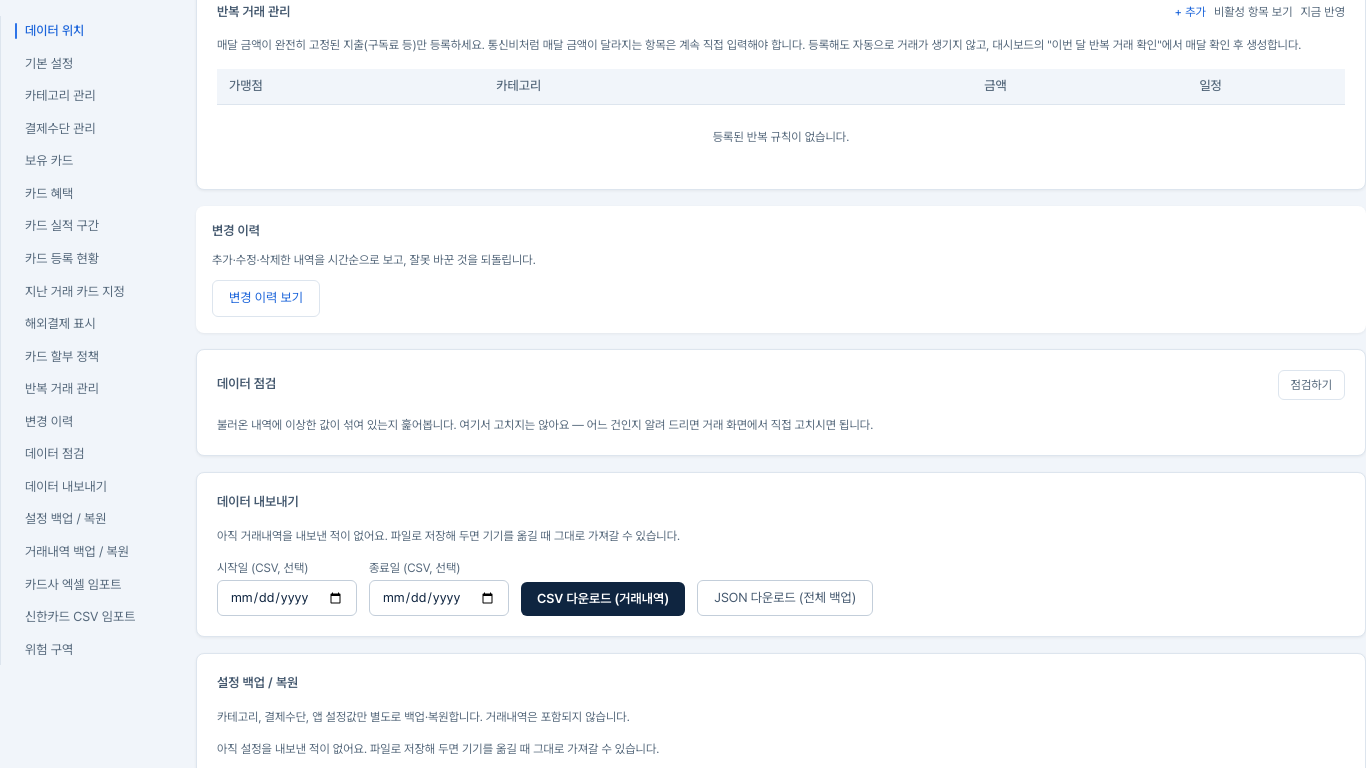
Scenario: 데이터 점검 절 › 깨끗하면 몇 가지를 봤는지 말해 준다
(page scrolled)
Click the button "점검하기": point(1311, 385) [1278,370,1345,400]
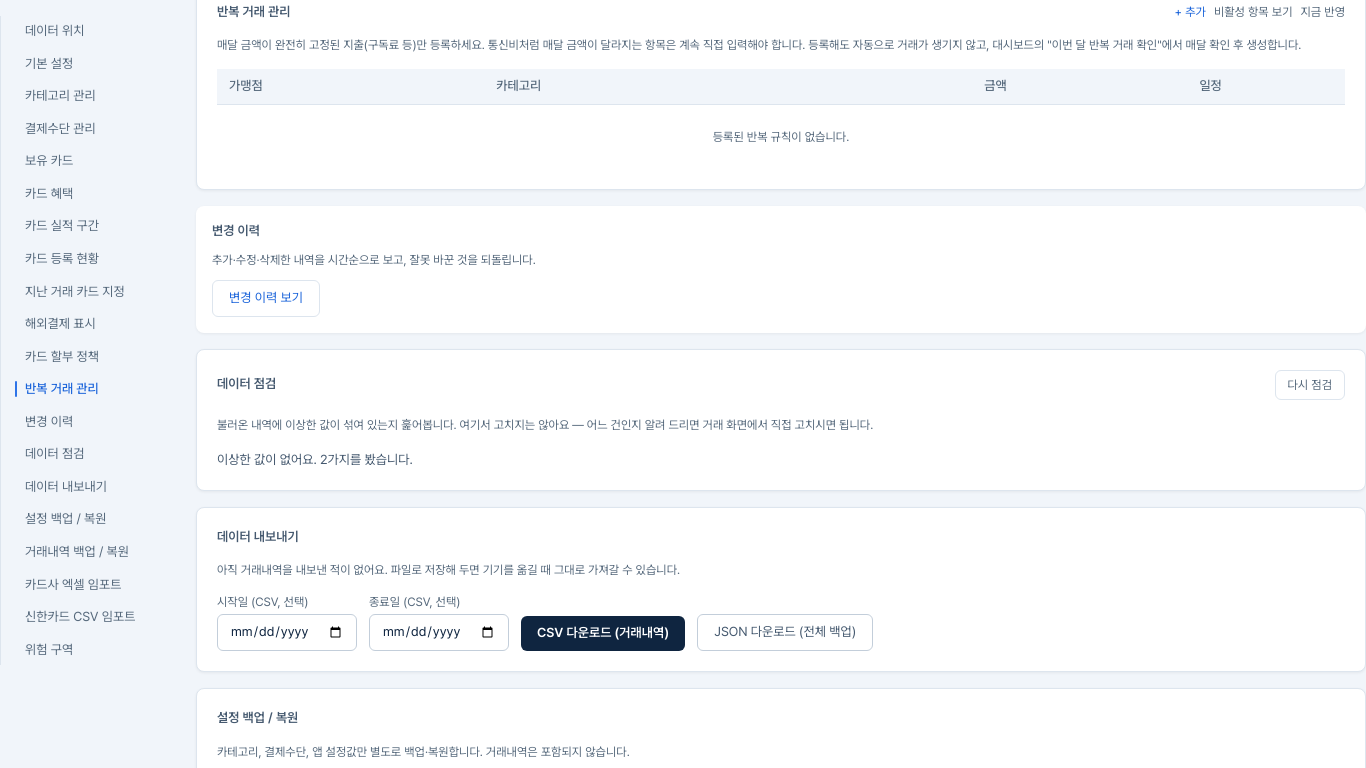
Expected: the text "이상한 값이 없어요. 2가지를 봤습니다." is shown, [217,452,413,467]
